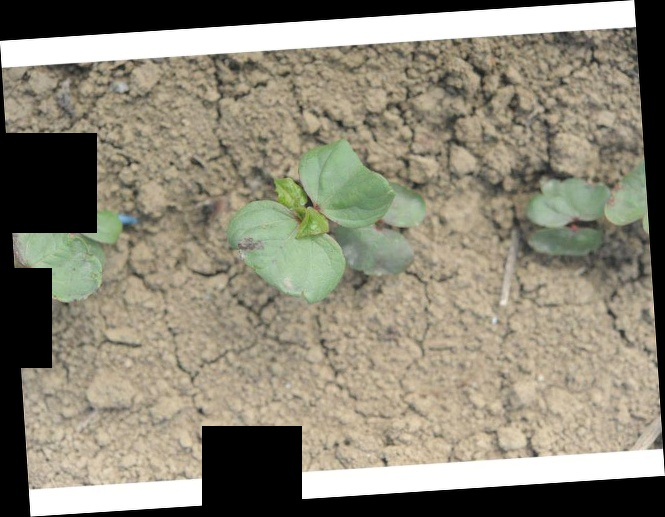cotton: (225, 139, 427, 301), (14, 190, 123, 323), (527, 161, 648, 257)
